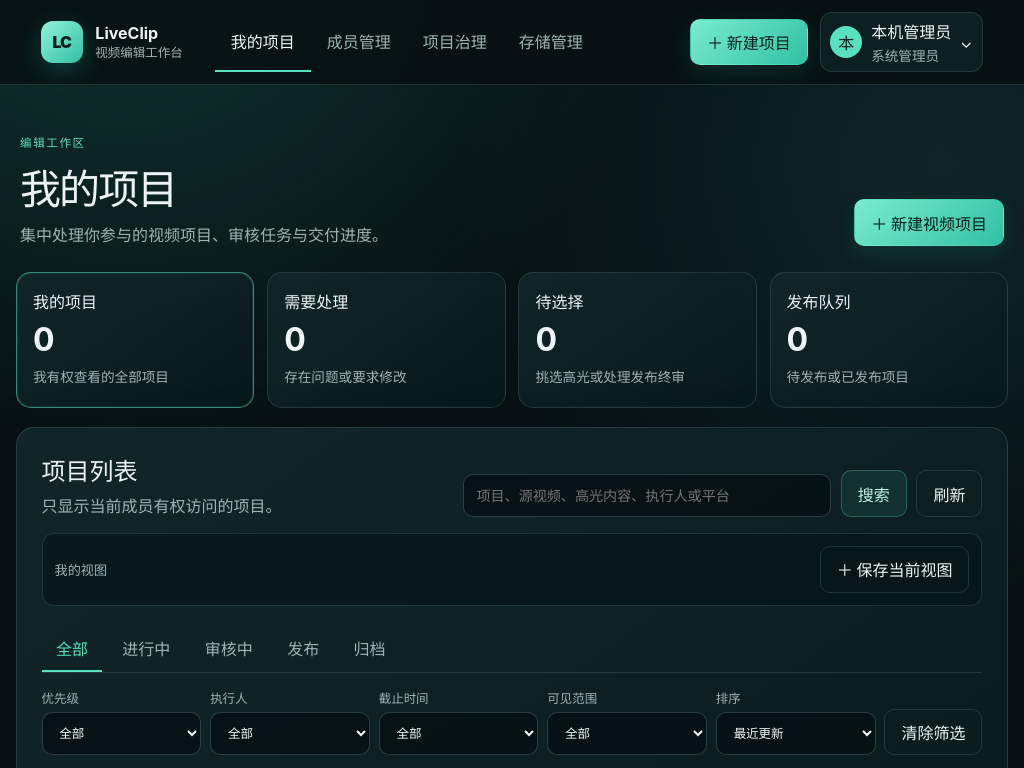
project list states › uses the same concise unavailable state for OpenRouter ASR
Click the button with aria-label "打开账户与系统设置" at (901, 42), box x1=820 y1=12 x2=983 y2=72
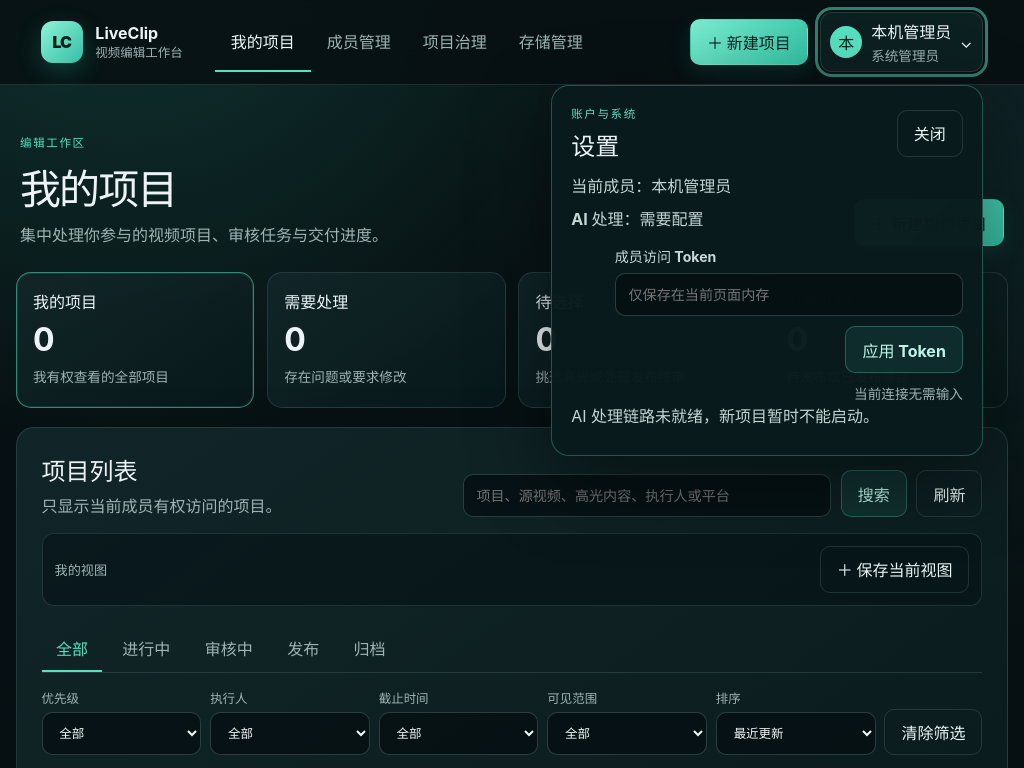
Expected: the text "AI 处理链路未就绪，新项目暂时不能启动。" is shown, x1=571 y1=406 x2=879 y2=426
